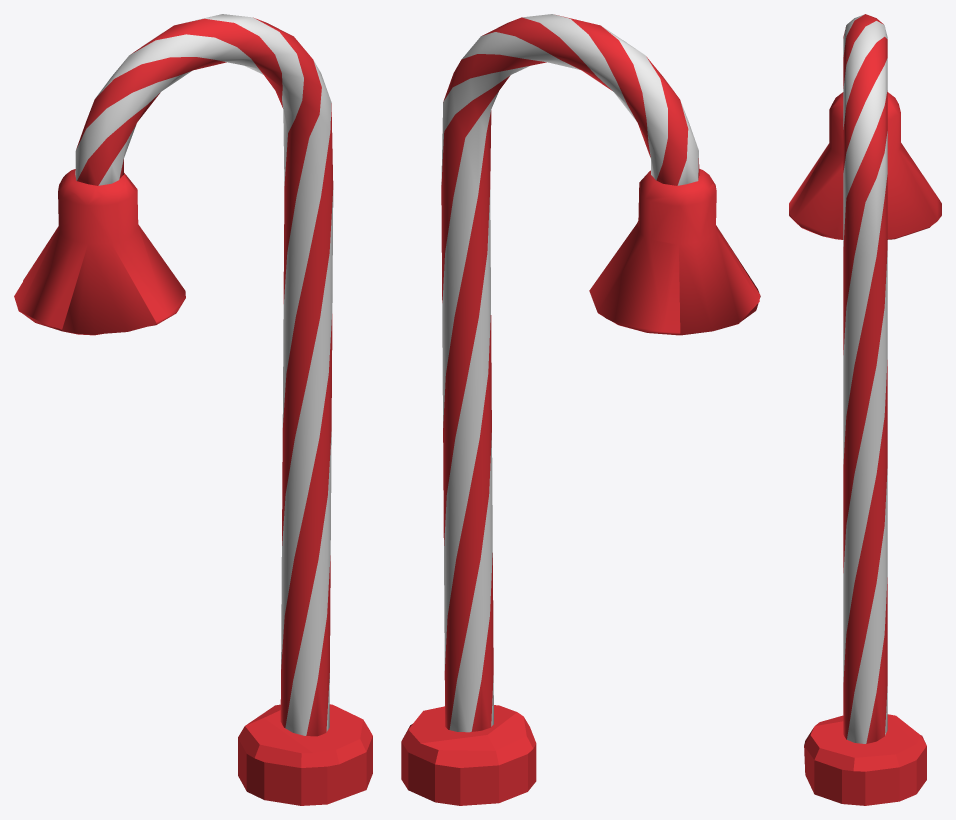
The model's file is Streetlight.fbx.
3 views of the same model, side by side, from view 1: azimuth 30°, elevation 25°; view 2: azimuth 150°, elevation 25°; view 3: azimuth 270°, elevation 25° (orthographic). The views are drawn at different scales.
Visible parts, largest first — view 1: Circle.001; view 2: Circle.001; view 3: Circle.001.
Boxes of the visible parts, x1,y1,x2,y2 form: Circle.001: (14, 14, 372, 805); Circle.001: (401, 14, 760, 805); Circle.001: (789, 14, 941, 805).
Bounding box in the file's own units: 287 × 649 × 124.
